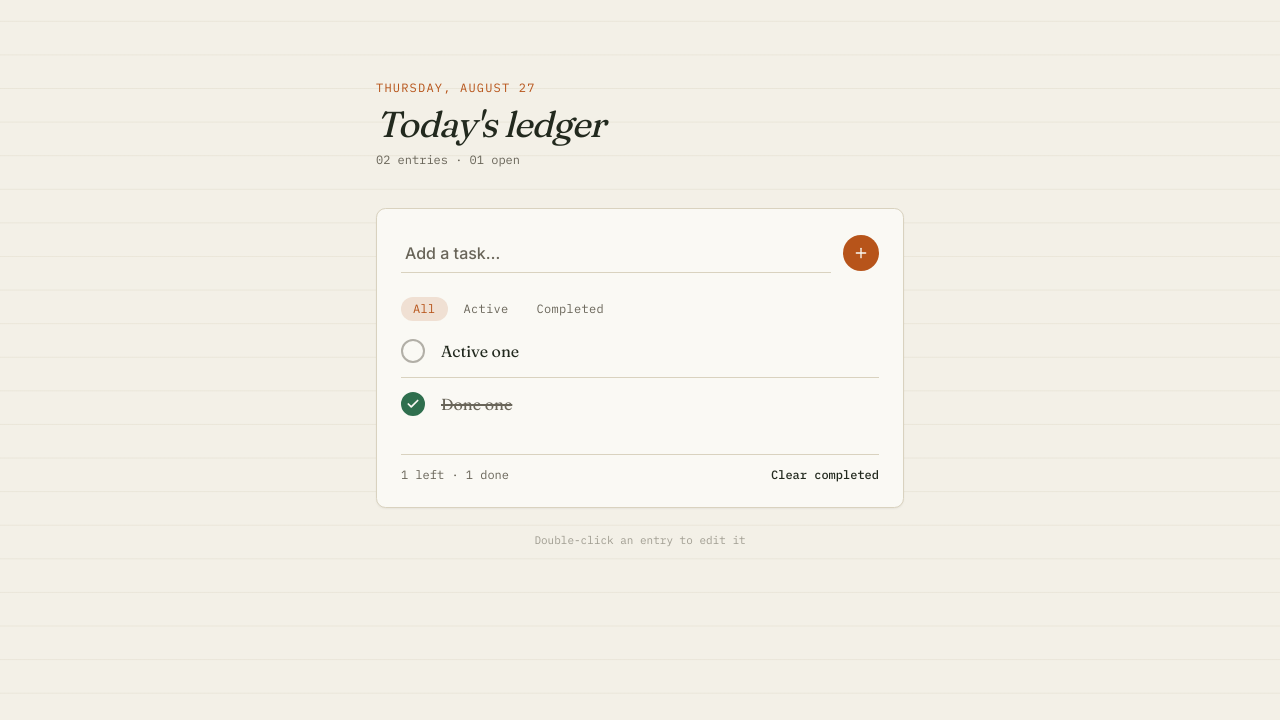
Scenario: Todo app integration (Page + useTodos + api.ts, network mocked) › filters the displayed list client-side without issuing another fetch
The image size is (1280, 720).
Expected: the text "Active one" is shown, [441,341,519,361]
Click the button "Active".
click(486, 309)  # box [452,297,520,321]
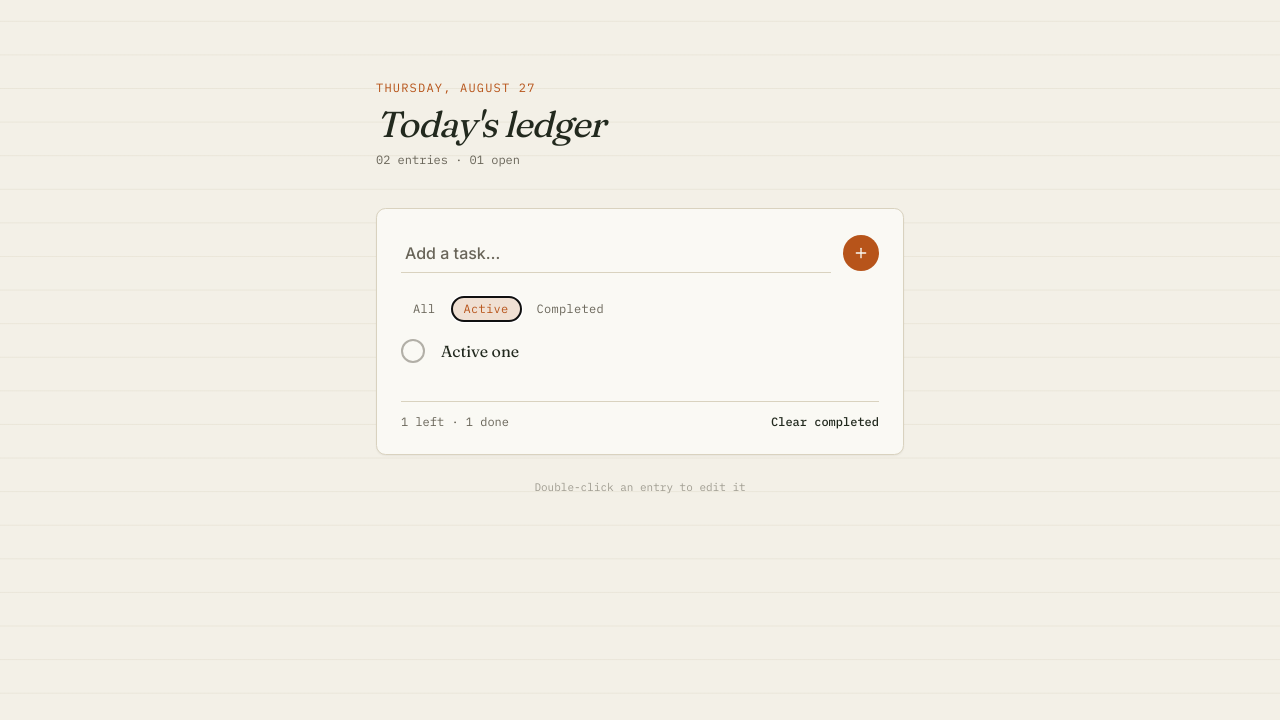
Expected: the text "Active one" is shown, [441,341,519,361]
Expected: the text "Done one" is gone
